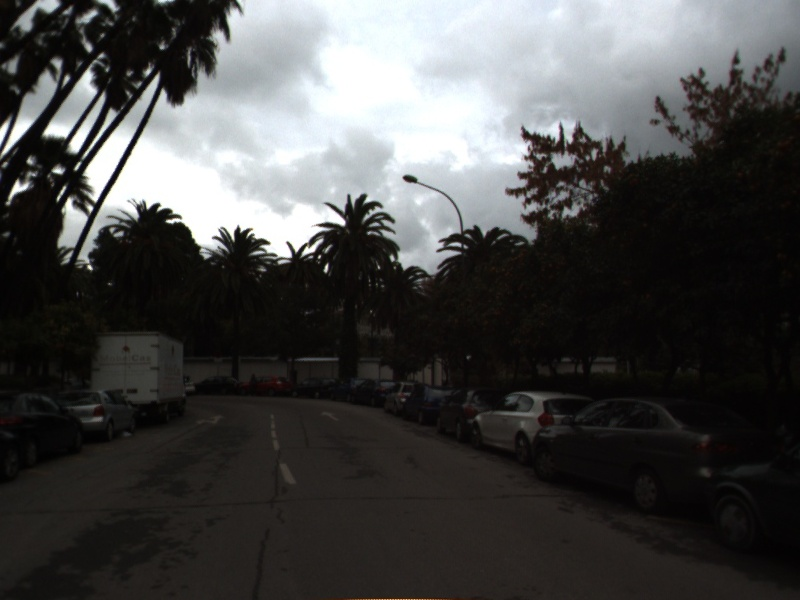STRAIGHT: (319, 408, 342, 423)
STRAIGHT_LEFT: (193, 413, 227, 427)
